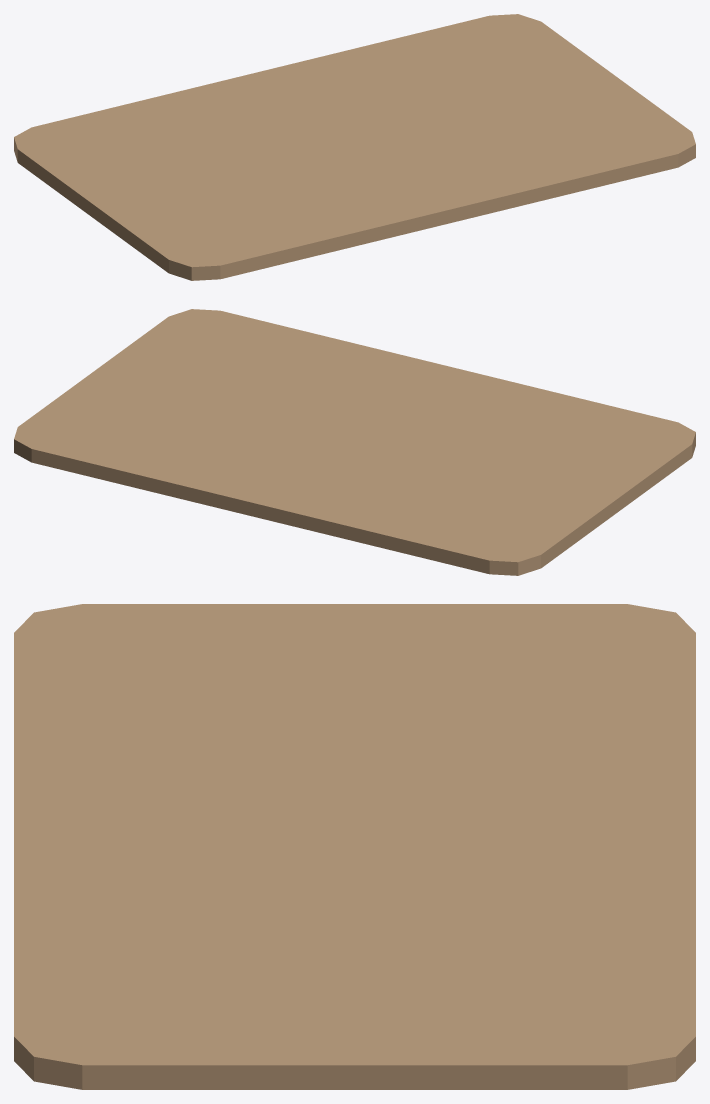
The model's file is CuttingBoard_02.fbx.
The picture shows the model from 3 angles, top to bottom: view 1: azimuth 30°, elevation 25°; view 2: azimuth 150°, elevation 25°; view 3: azimuth 270°, elevation 25°; orthographic projection. The views are drawn at different scales.
Visible parts, largest first — view 1: CuttingBoard_02; view 2: CuttingBoard_02; view 3: CuttingBoard_02.
Part boxes in pixels (<box>): CuttingBoard_02: <box>14,14,695,280</box>; CuttingBoard_02: <box>14,309,695,575</box>; CuttingBoard_02: <box>14,604,695,1089</box>.
Bounding box in the file's own units: 40 × 1 × 25.
